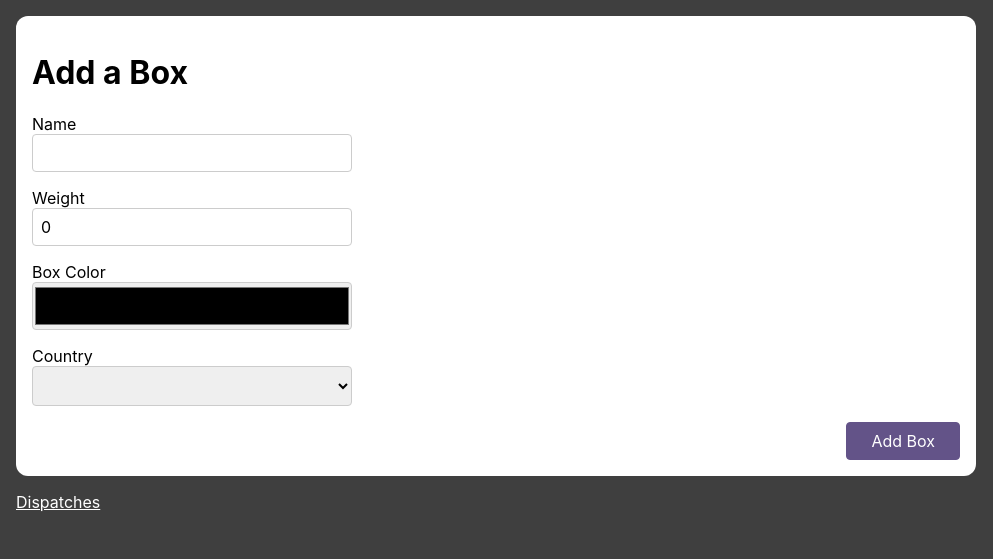
AddBoxForm Component › Color input error displaying after input touched
The image size is (993, 559).
Click the colour field labelled "Box Color" at (192, 306), box x1=32 y1=282 x2=352 y2=330
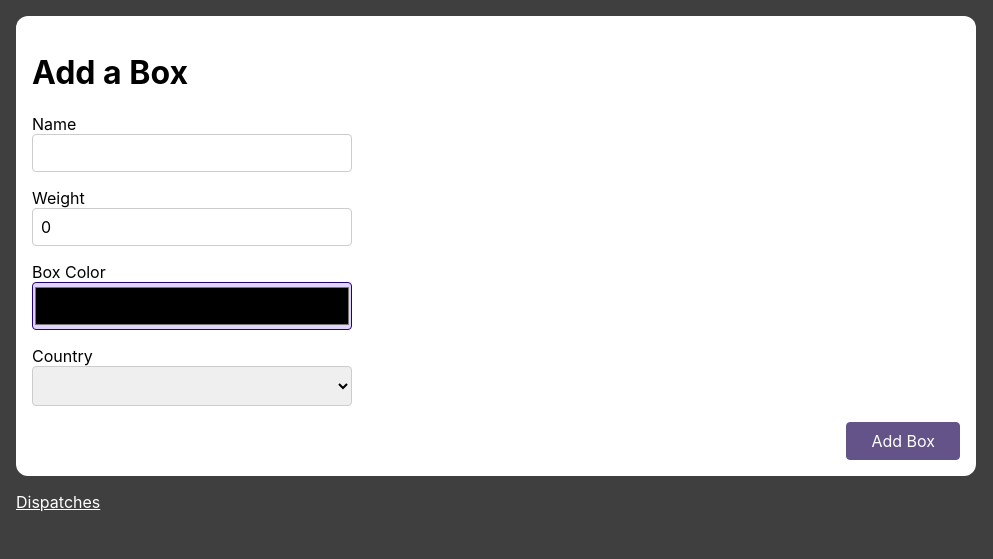
Leave the colour field labelled "Box Color", box x1=32 y1=282 x2=352 y2=330
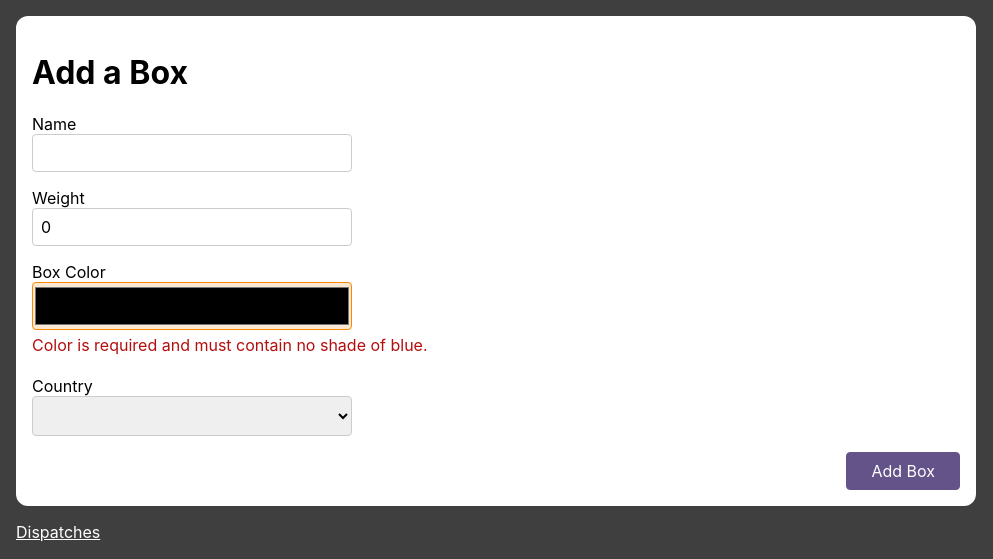
Result: the text "Color is required" is shown at x1=32 y1=335 x2=428 y2=355
